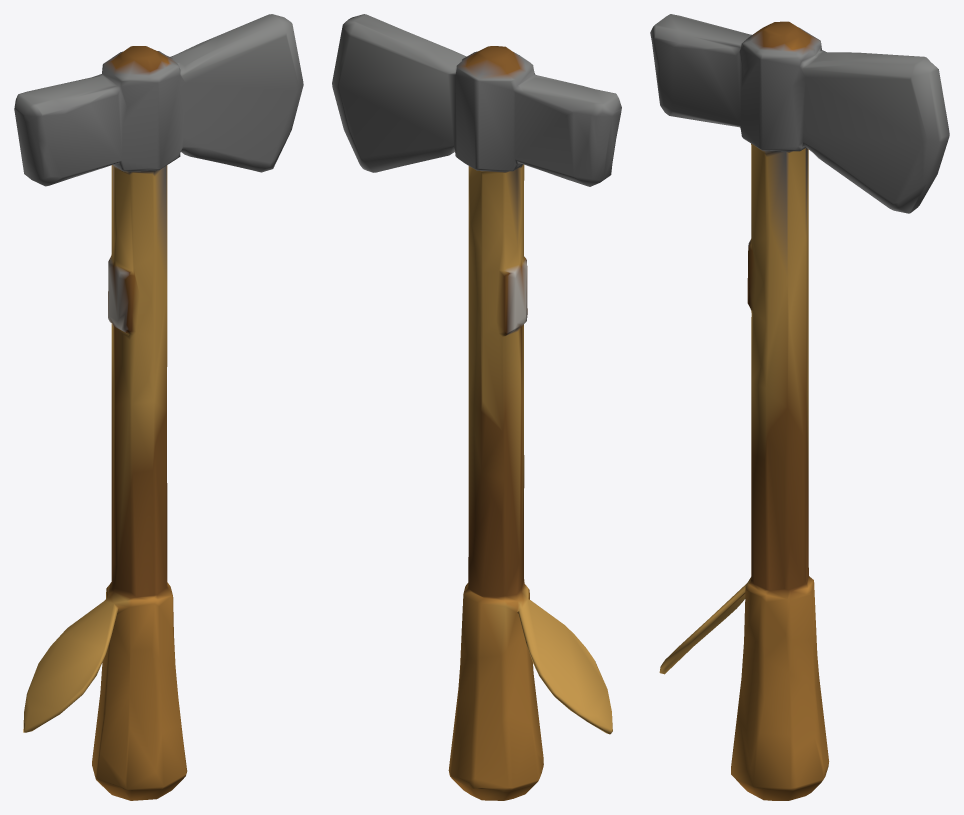
File: gen3d-tomahawk-lod1.glb
3 views of the same model, side by side, from view 1: azimuth 30°, elevation 25°; view 2: azimuth 150°, elevation 25°; view 3: azimuth 330°, elevation 25° (orthographic). The views are drawn at different scales.
Parts seen in each view (by area): view 1: part_0; view 2: part_0; view 3: part_0.
Boxes of the visible parts, left/top/right/bottom form: part_0: left=14, top=14, right=303, bottom=800; part_0: left=332, top=14, right=621, bottom=800; part_0: left=650, top=14, right=949, bottom=800.
Bounding box in the file's own units: 0.3988 × 0.9995 × 0.1214.
